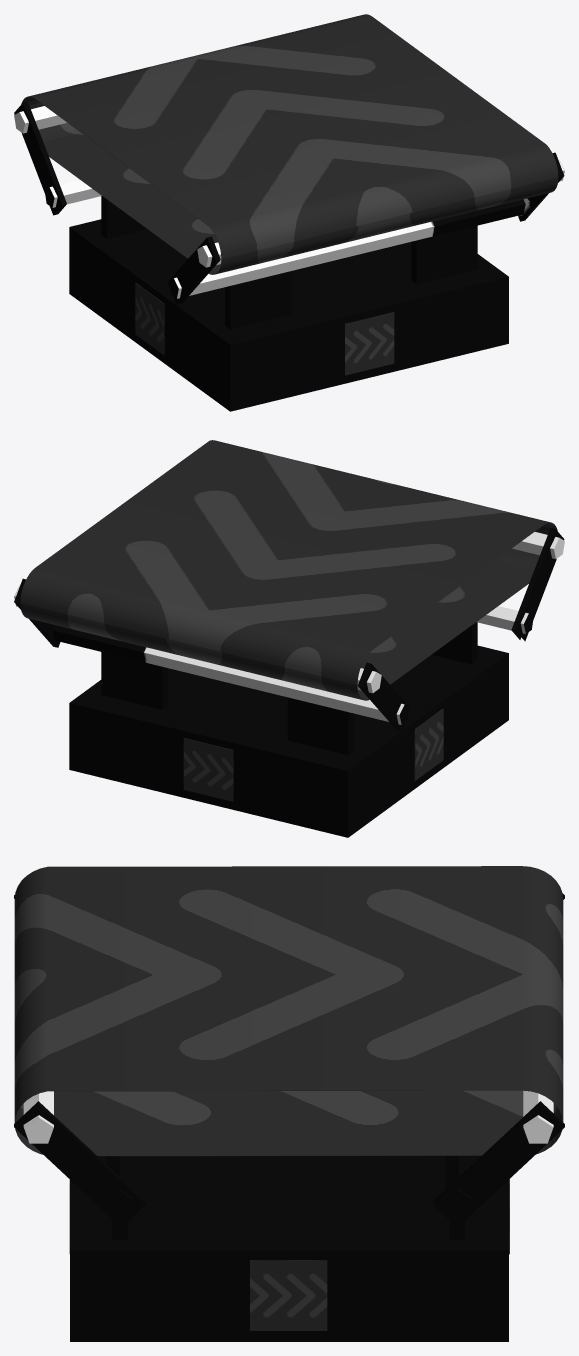
The model's file is Belt2.fbx.
3 views of the same model, one above another, from view 1: azimuth 30°, elevation 25°; view 2: azimuth 150°, elevation 25°; view 3: azimuth 270°, elevation 25° (orthographic). The views are drawn at different scales.
Parts seen in each view (by area): view 1: Belt, Base, Logos, RC; view 2: Belt, Base, Logos, LC; view 3: Belt, Base, Logos, RC, LC.
Part boxes in pixels (x1=…): Belt: x1=21, y1=14, x2=558, y2=274; Base: x1=14, y1=101, x2=564, y2=411; Logos: x1=135, y1=283, x2=394, y2=375; RC: x1=14, y1=106, x2=67, y2=133; Belt: x1=20, y1=440, x2=557, y2=700; Base: x1=14, y1=528, x2=564, y2=837; Logos: x1=183, y1=708, x2=443, y2=801; LC: x1=512, y1=532, x2=564, y2=559; Belt: x1=14, y1=866, x2=563, y2=1156; Base: x1=14, y1=893, x2=564, y2=1341; Logos: x1=69, y1=1179, x2=509, y2=1330; RC: x1=523, y1=1090, x2=553, y2=1143; LC: x1=23, y1=1091, x2=53, y2=1143.
Bounding box in the file's own units: 203 × 108 × 199.
4 materials, 4 textured.
